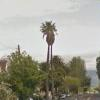Palm tree: (34, 11, 68, 75)
